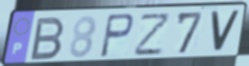7: (175, 11, 206, 56)
8: (67, 14, 99, 60)
B: (28, 15, 67, 62)
P: (98, 12, 136, 59)
V: (208, 10, 242, 55)
Z: (132, 11, 173, 58)
